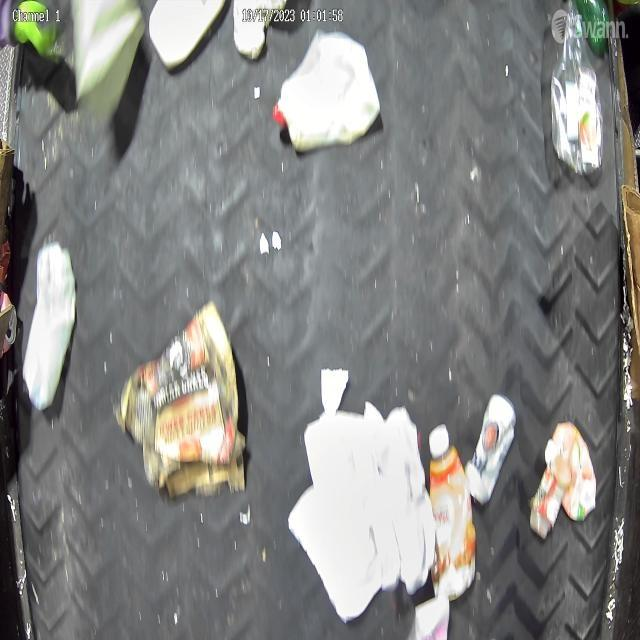milk_jug: (274, 30, 379, 152), (22, 243, 78, 410)
plastic_bottle: (551, 7, 606, 176)
